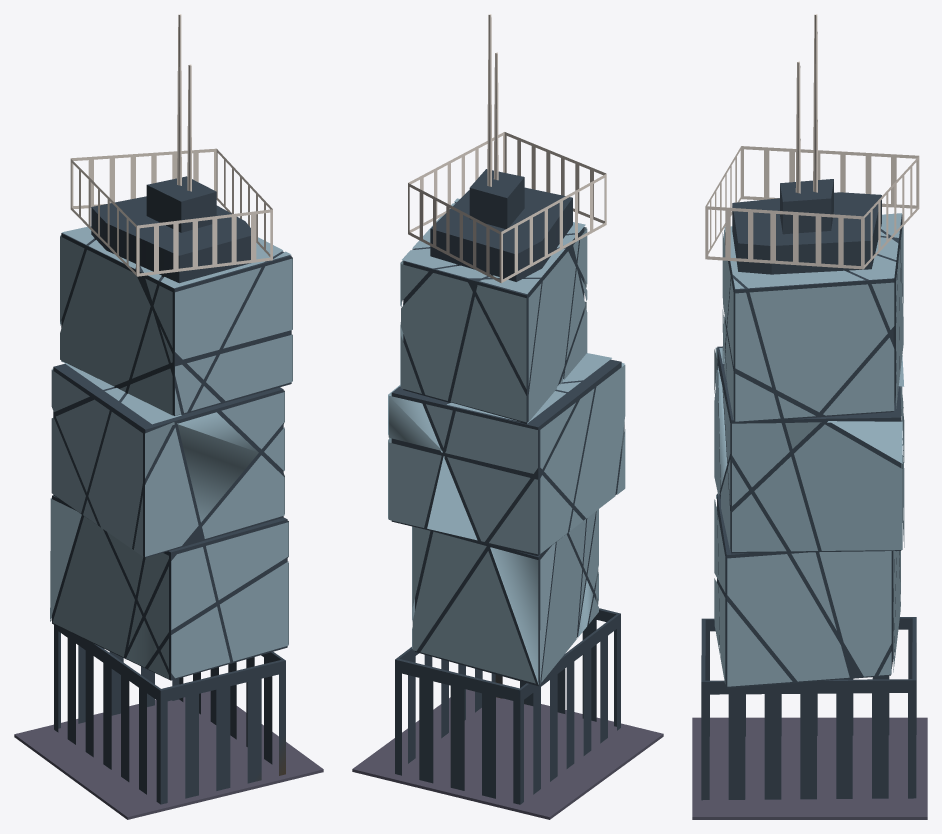
The model's file is building.fbx.
The picture shows the model from 3 angles, left to right: view 1: azimuth 30°, elevation 25°; view 2: azimuth 150°, elevation 25°; view 3: azimuth 270°, elevation 25°; orthographic projection. The views are drawn at different scales.
Parts seen in each view (by area): view 1: sky5, sky4, sky3, sky2, tower, Basic; view 2: sky4, sky5, sky3, sky2, tower, Basic; view 3: sky5, sky4, sky3, tower, Basic, sky2.
Part boxes in pixels (box(x1,y1,x2,y2)): sky5: box(60, 226, 292, 424); sky4: box(51, 364, 284, 557); sky3: box(50, 495, 288, 680); sky2: box(54, 625, 285, 804); tower: box(70, 14, 272, 283); Basic: box(14, 691, 323, 819); sky4: box(388, 359, 625, 555); sky5: box(400, 198, 611, 424); sky3: box(412, 509, 598, 686); sky2: box(395, 608, 620, 804); tower: box(408, 14, 606, 283); Basic: box(352, 689, 663, 819); sky5: box(719, 213, 904, 423); sky4: box(714, 346, 904, 553); sky3: box(714, 493, 900, 688); tower: box(705, 14, 919, 274); Basic: box(692, 717, 927, 819); sky2: box(701, 617, 916, 800).
Bounding box in the file's own units: 7.5 × 26.8 × 7.5.
Materials: 2 (1 with a texture image).
